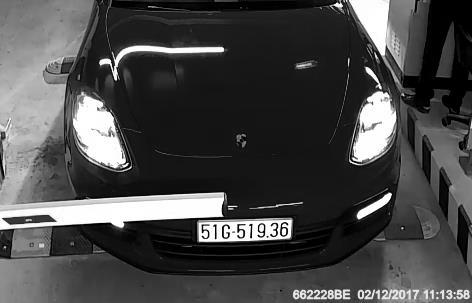License-plate: (181, 205, 315, 255)
